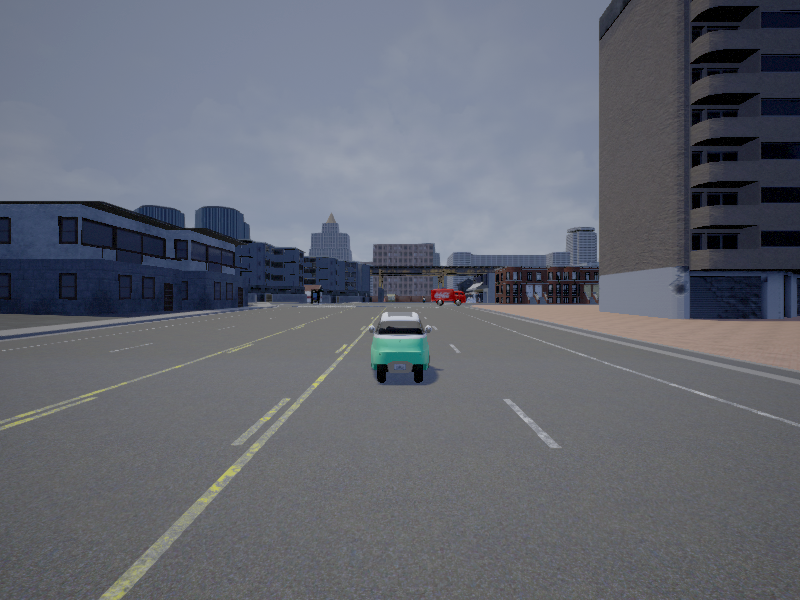Benign: (370, 311, 432, 384), (432, 290, 468, 307)
